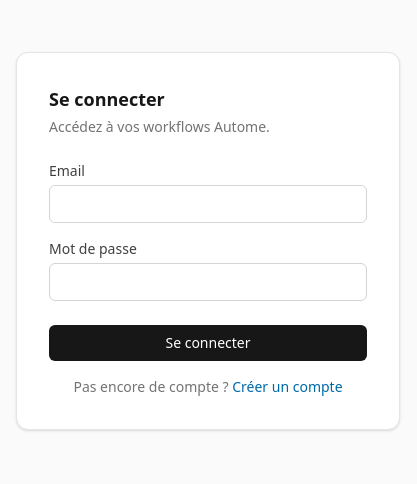
Test: <LoginPage /> › bloque la soumission et affiche l'erreur si la saisie est invalide
Type "bad" into the field labelled "Email" at [208, 204], box [49,185,367,223]
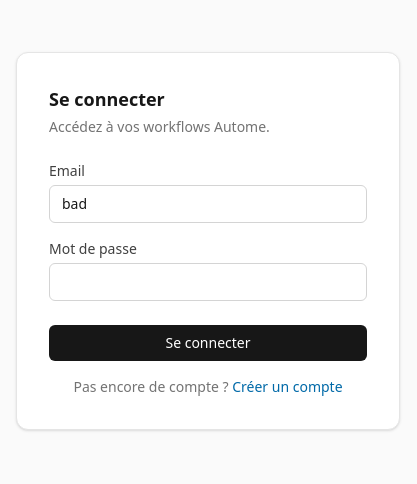
Type "x" into the password field labelled "Mot de passe" at [208, 282], box [49,263,367,301]
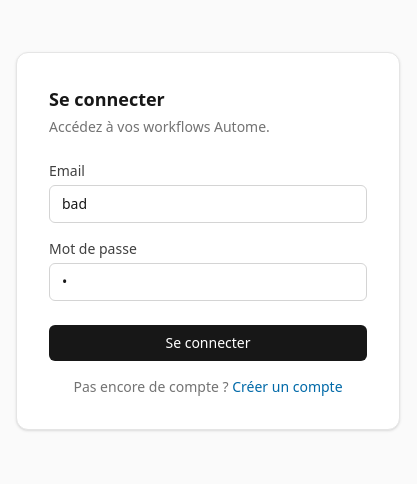
Click the button "Se connecter" at [208, 343], box [49,325,367,361]
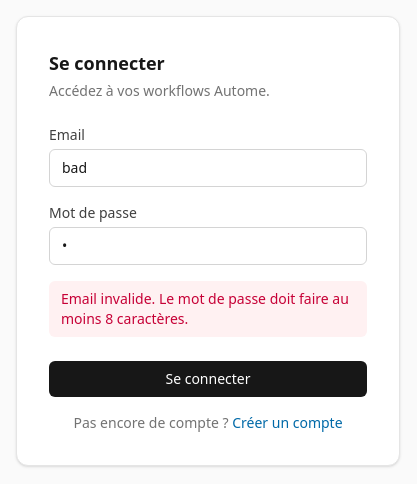
Expected: the message shows "Email", [61,289,349,328]
